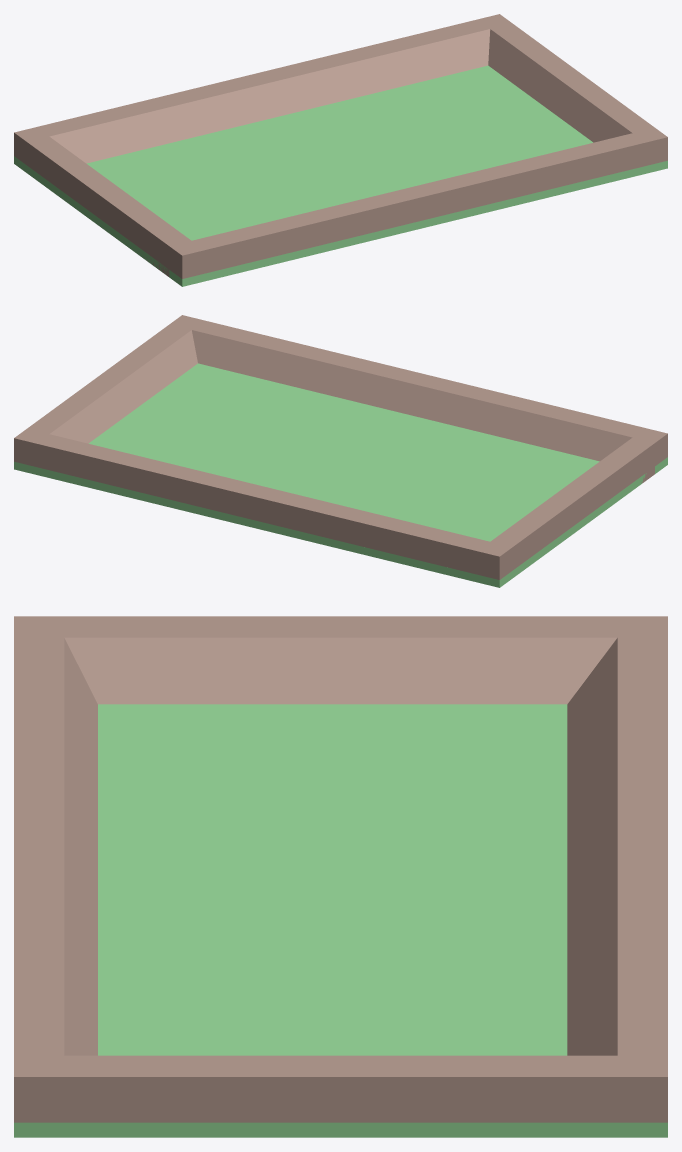
File: DiceContainer.fbx
The picture shows the model from 3 angles, top to bottom: view 1: azimuth 30°, elevation 25°; view 2: azimuth 150°, elevation 25°; view 3: azimuth 270°, elevation 25°; orthographic projection. The views are drawn at different scales.
Visible parts, largest first — view 1: mesh2092922956, mesh1962363900, mesh722694922, mesh1404151290, mesh2095078851; view 2: mesh2092922956, mesh722694922, mesh1962363900, mesh1404151290, mesh2095078851; view 3: mesh2092922956, mesh2095078851, mesh1404151290, mesh1962363900, mesh722694922.
Boxes of the visible parts, box(x1,y1,x2,y2) form: mesh2092922956: box(14, 65, 667, 286); mesh1962363900: box(14, 19, 490, 174); mesh722694922: box(161, 133, 645, 278); mesh1404151290: box(477, 14, 667, 169); mesh2095078851: box(27, 136, 191, 276); mesh2092922956: box(14, 363, 667, 587); mesh722694922: box(192, 320, 667, 465); mesh1962363900: box(36, 434, 525, 579); mesh1404151290: box(14, 315, 204, 470); mesh2095078851: box(490, 437, 654, 560); mesh2092922956: box(14, 704, 667, 1137); mesh2095078851: box(64, 616, 617, 704); mesh1404151290: box(14, 1055, 667, 1122); mesh1962363900: box(567, 616, 667, 1055); mesh722694922: box(14, 616, 97, 1055).
Bounding box in the file's own units: 495 × 30.45 × 297.
